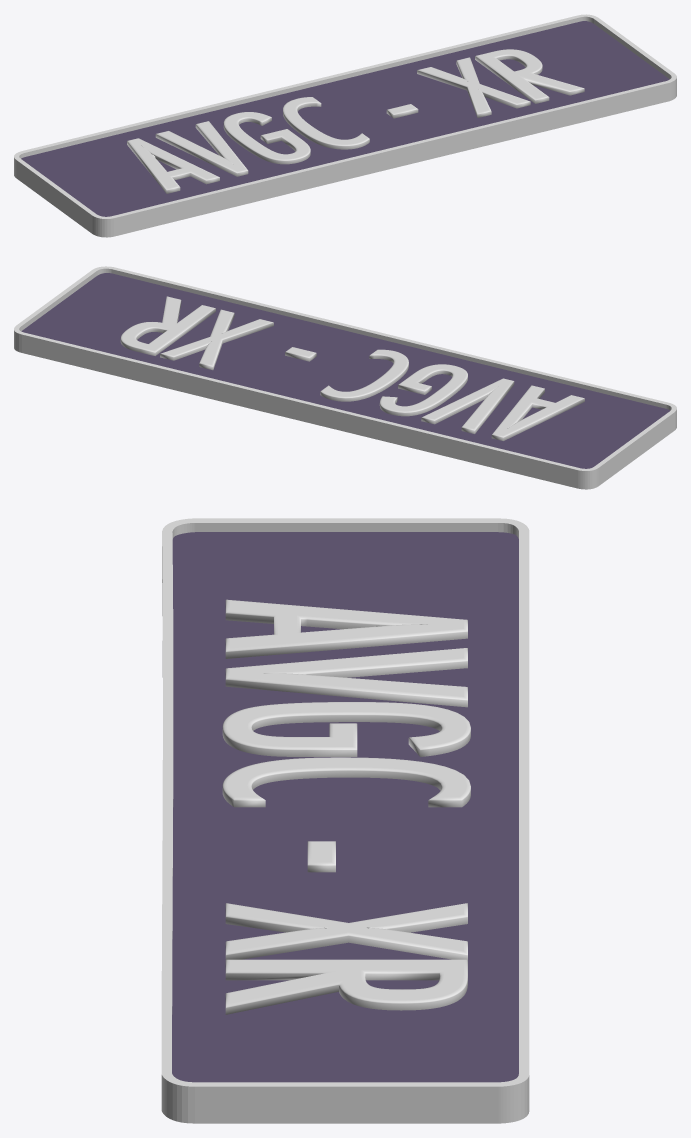
File: AVGC.gltf
3 views of the same model, one above another, from view 1: azimuth 30°, elevation 25°; view 2: azimuth 150°, elevation 25°; view 3: azimuth 270°, elevation 25° (orthographic). The views are drawn at different scales.
Visible parts, largest first — view 1: Curve.046, Curve.045, Text.002; view 2: Curve.046, Curve.045, Text.002; view 3: Curve.046, Text.002, Curve.045.
Boxes of the visible parts, x1,y1,x2,y2 form: Curve.046: (21, 21, 669, 216); Curve.045: (14, 14, 676, 237); Text.002: (127, 49, 584, 193); Curve.046: (21, 273, 670, 468); Curve.045: (14, 266, 676, 489); Text.002: (120, 296, 584, 440); Curve.046: (172, 532, 518, 1082); Text.002: (222, 599, 470, 1014); Curve.045: (161, 518, 529, 1123).
Size of the model in its own units: 0.1166 by 0.00353 by 0.0319.
